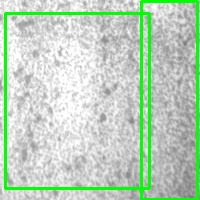pitted_surface: (5, 13, 149, 188), (141, 1, 197, 199)
